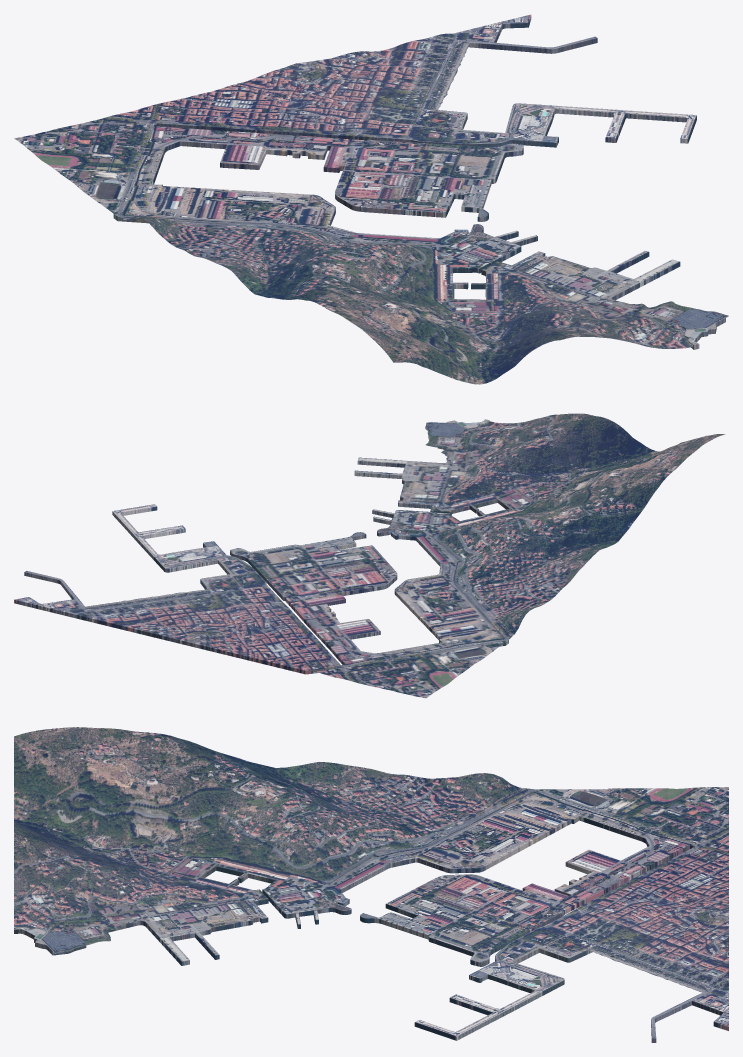
Rendered from terrain.dae.
3 renders of one model, top to bottom at view 1: azimuth 30°, elevation 25°; view 2: azimuth 150°, elevation 25°; view 3: azimuth 270°, elevation 25°, orthographic. The views are drawn at different scales.
Parts seen in each view (by area): view 1: Terrain; view 2: Terrain; view 3: Terrain.
Boxes of the visible parts, left/top/right/bottom form: Terrain: left=14, top=14, right=728, bottom=384; Terrain: left=14, top=413, right=725, bottom=698; Terrain: left=14, top=727, right=728, bottom=1042.
Size of the model in its own units: 209338 by 26000 by 253573.
Materials: 1 (1 with a texture image).
